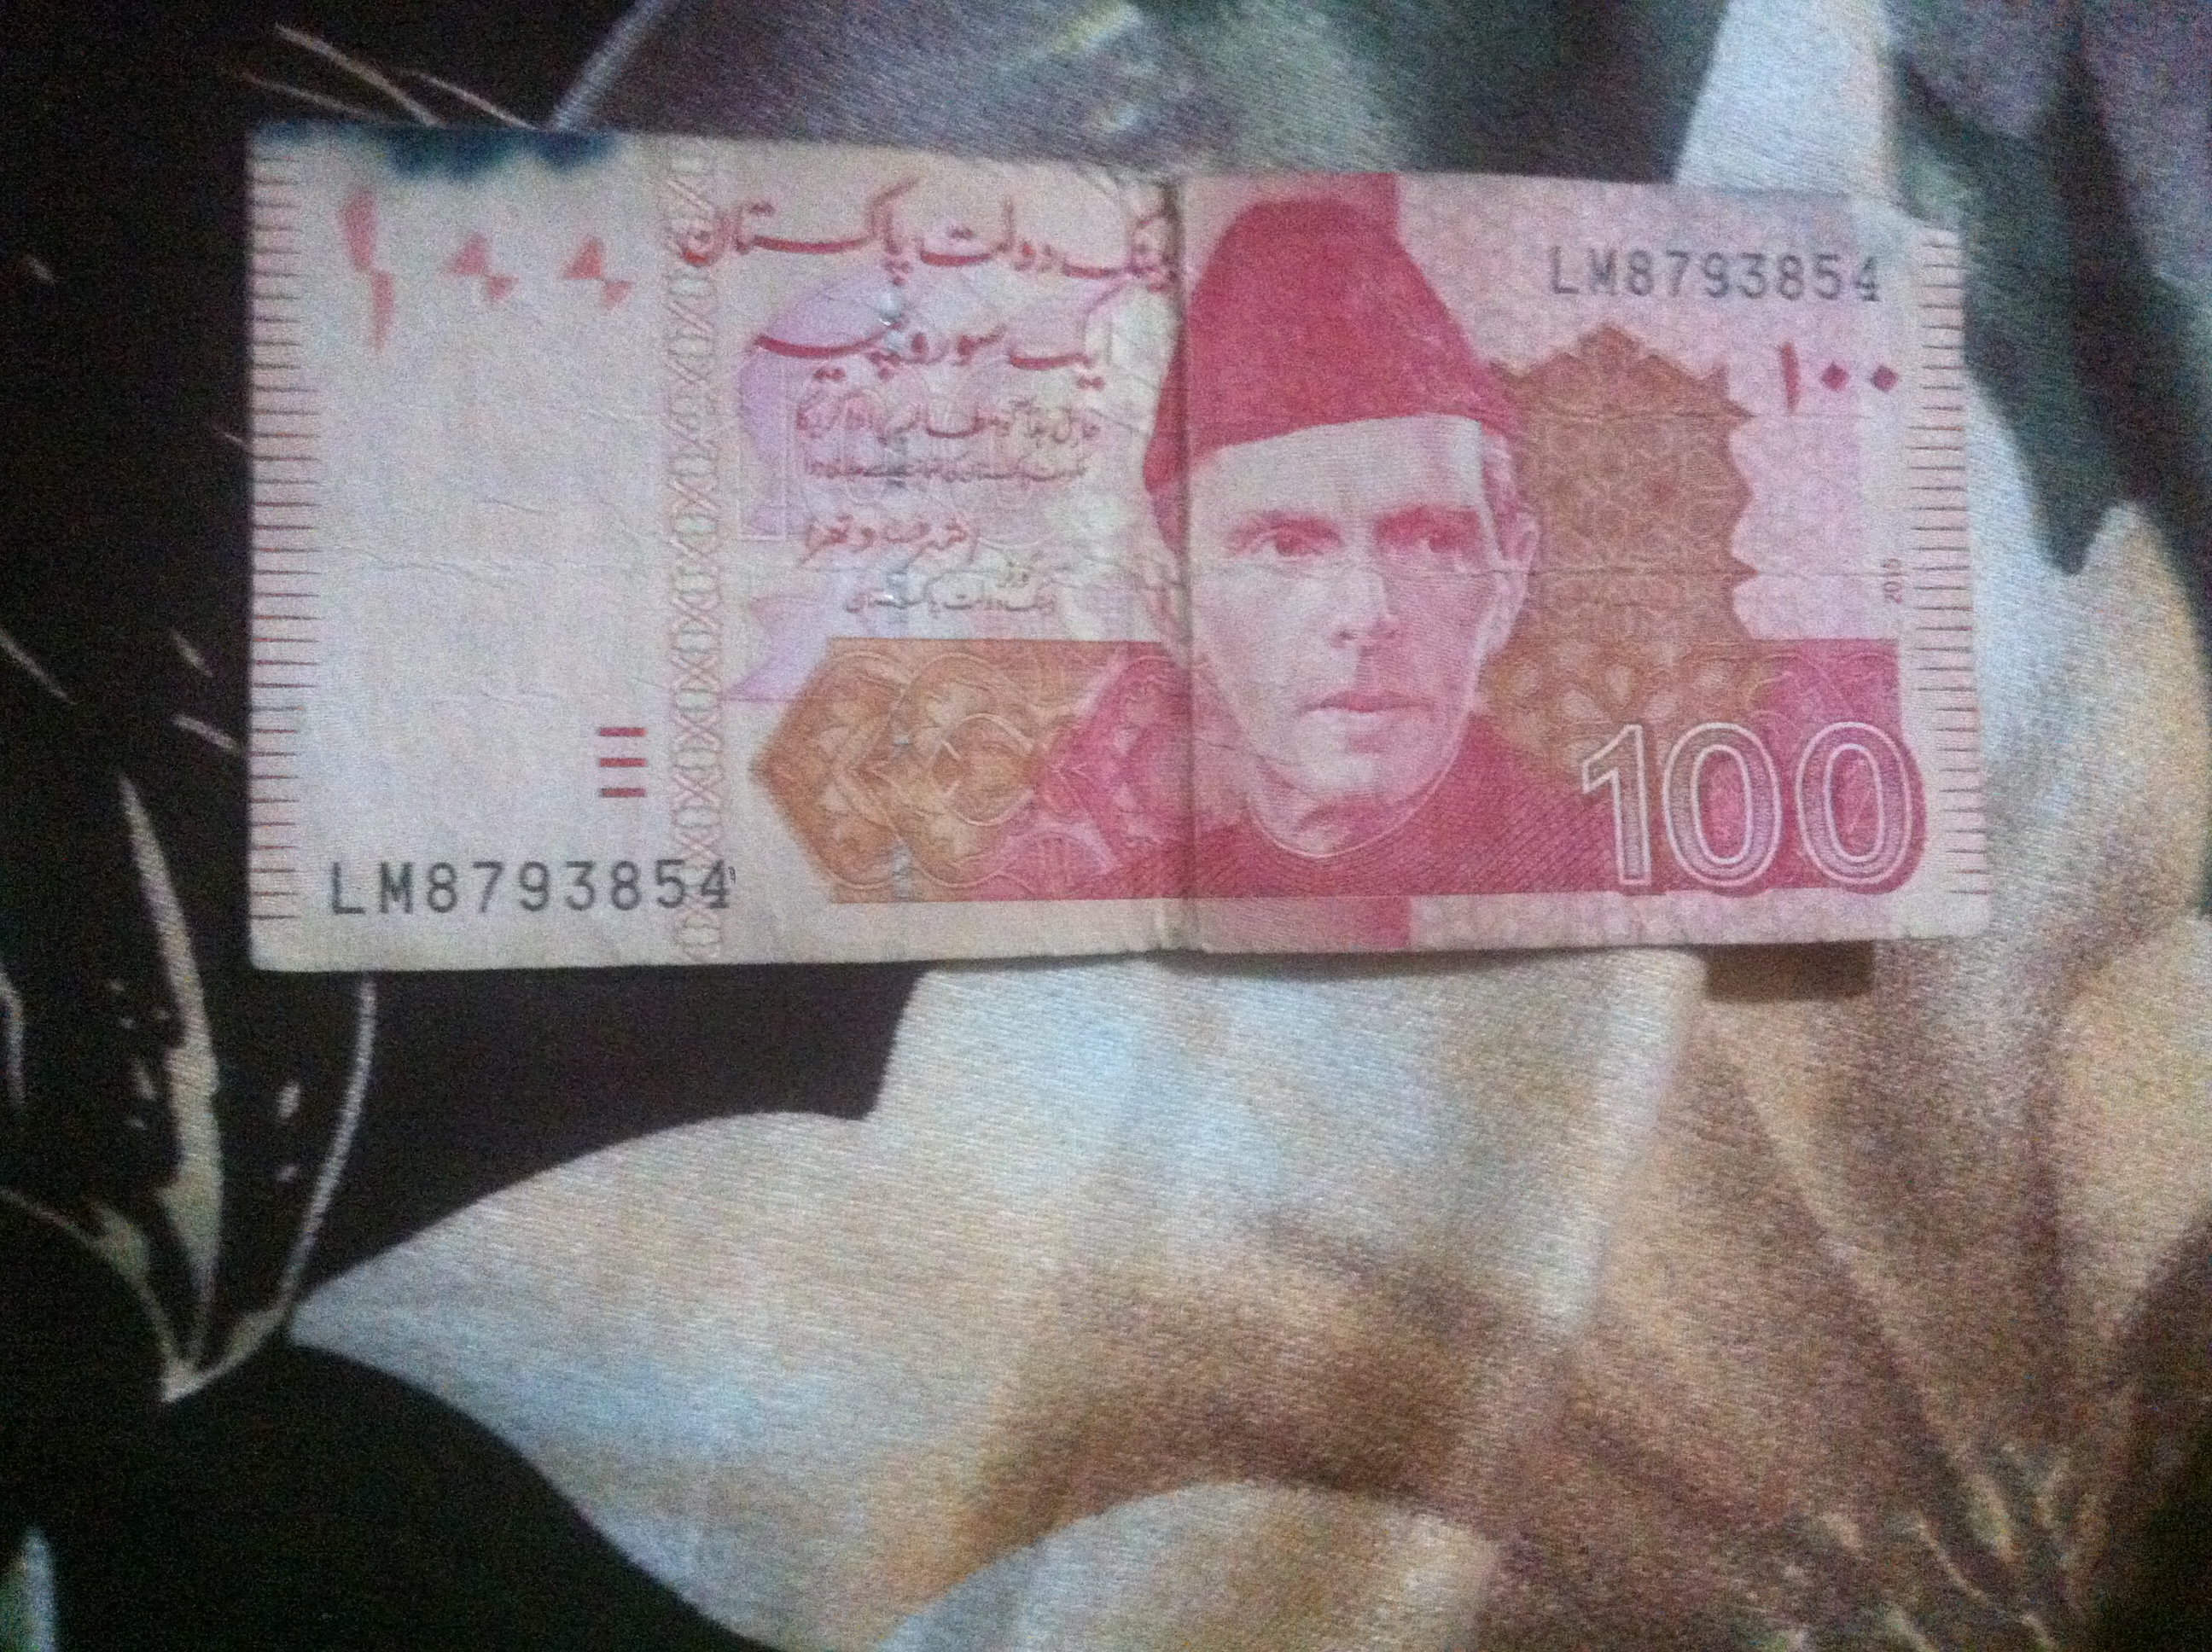100 rupee: (241, 144, 2006, 967)
